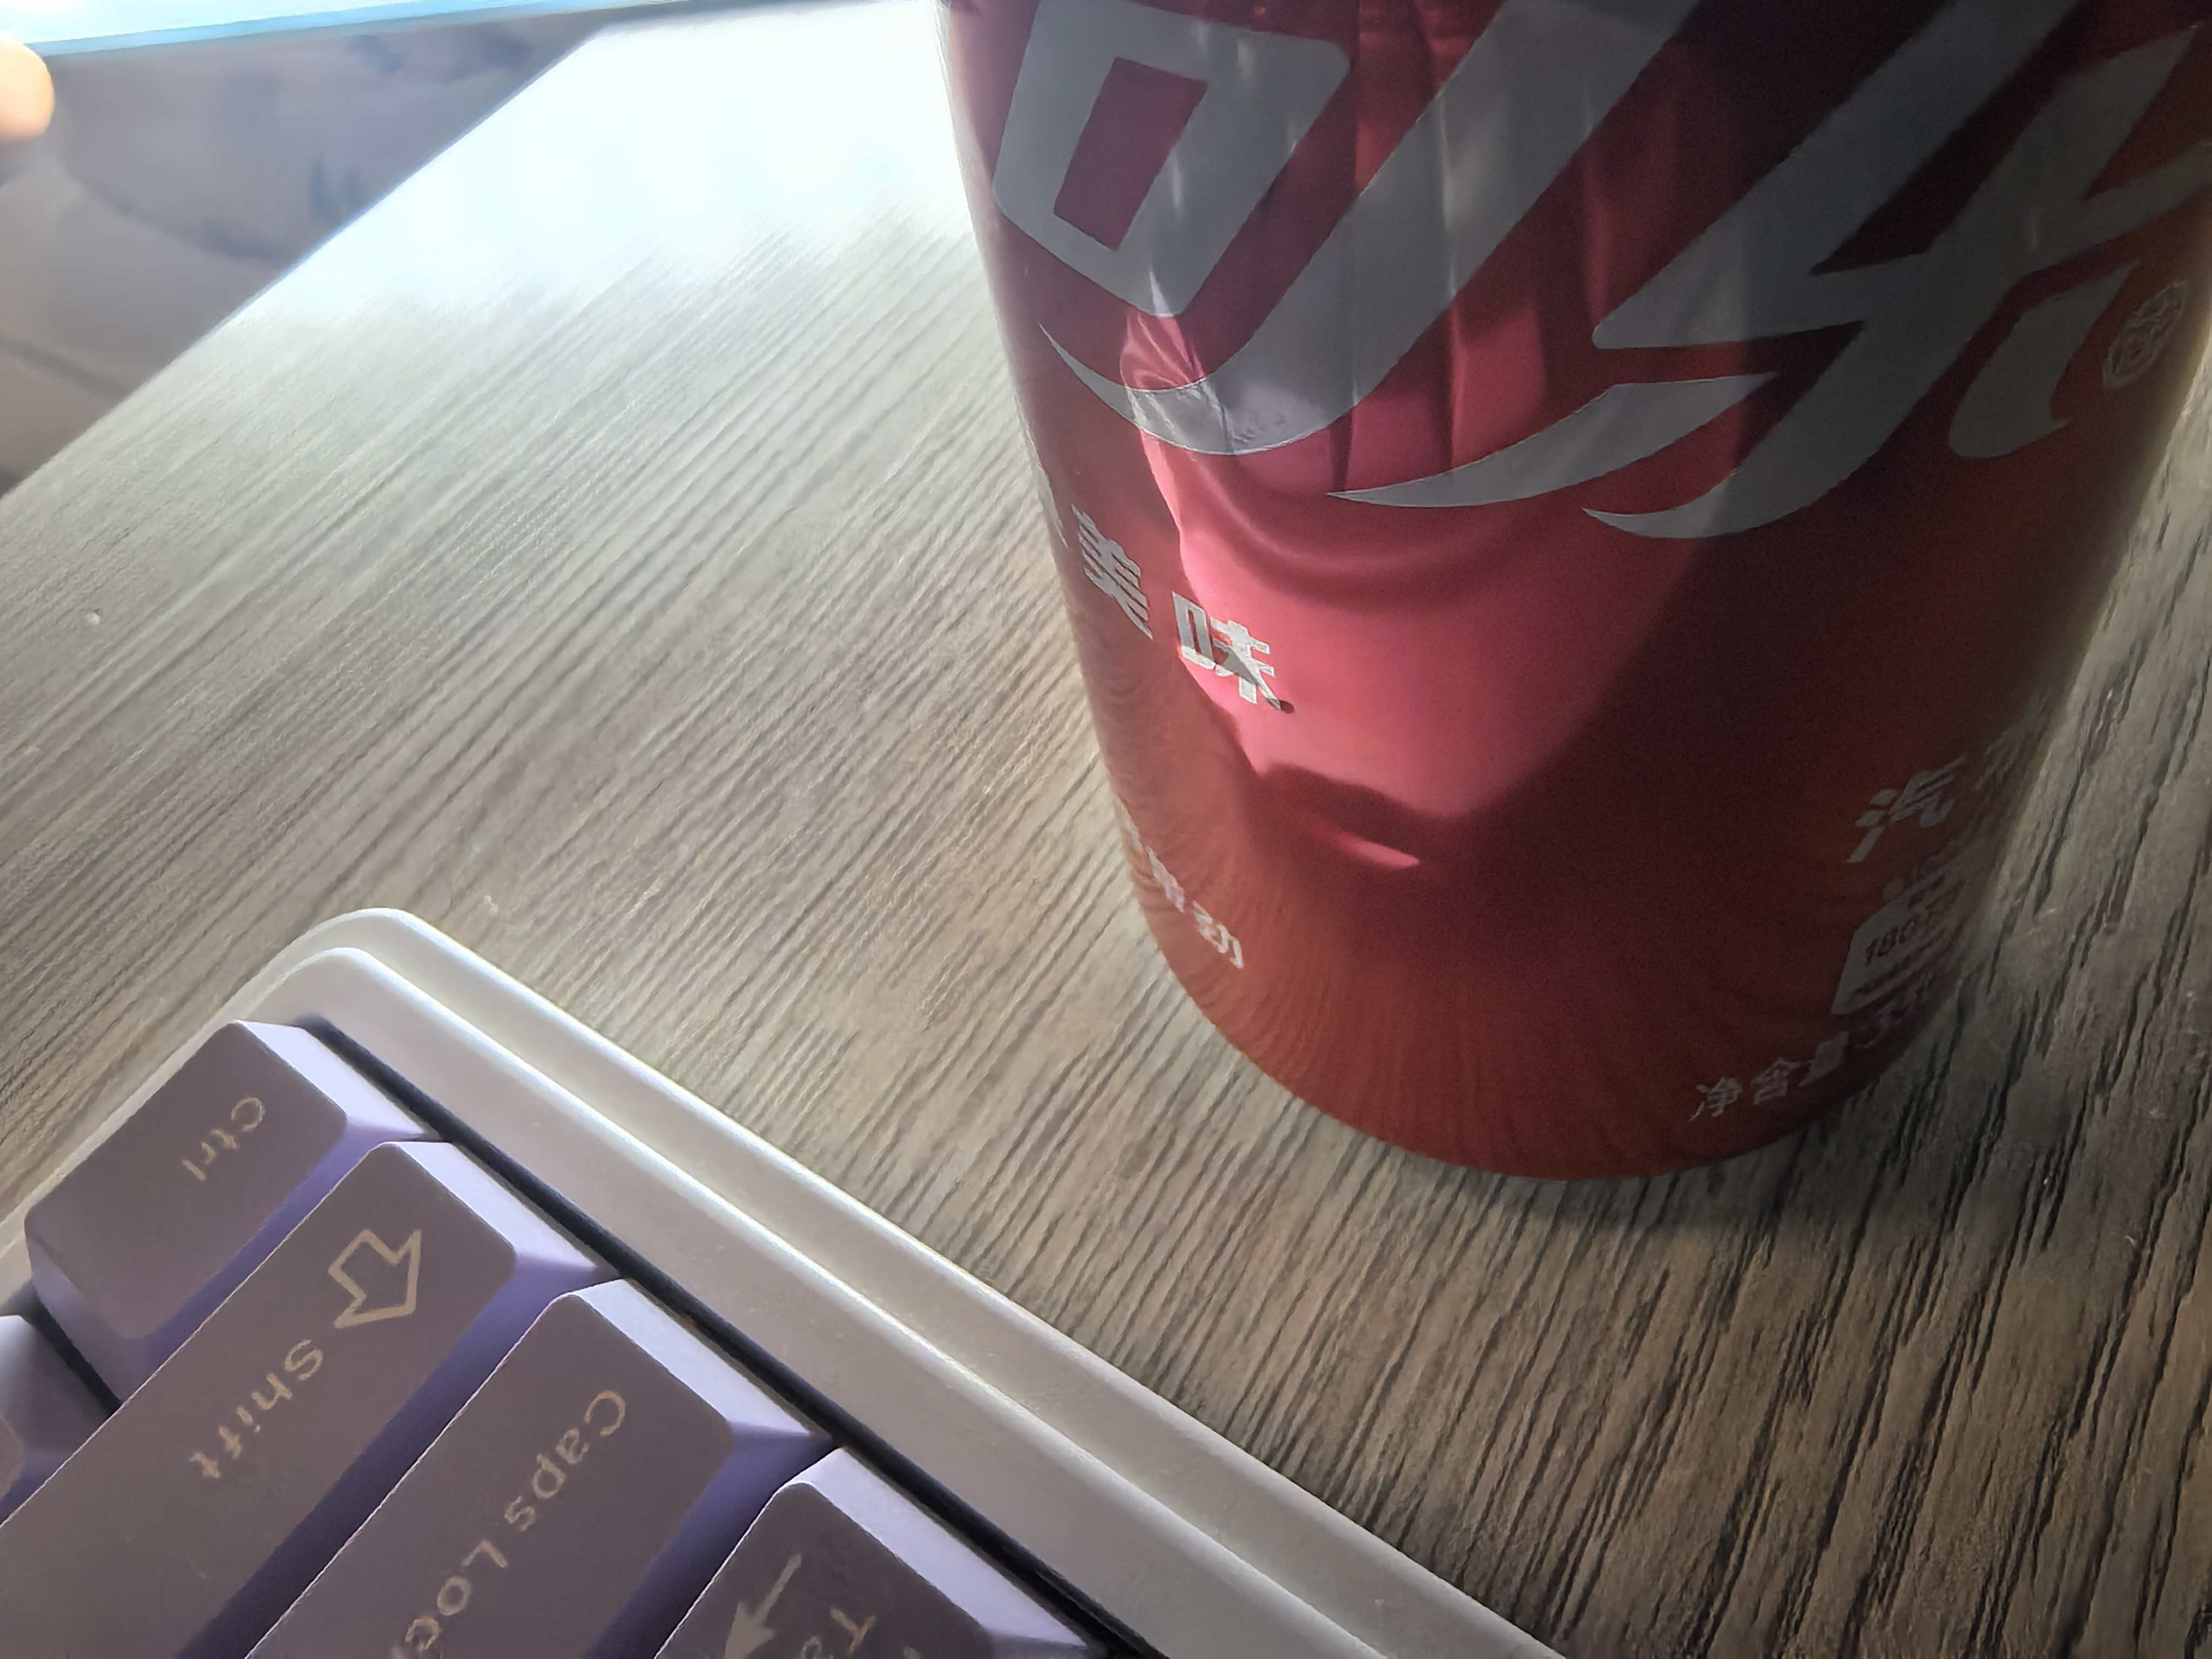可乐: (902, 7, 2174, 1225)
